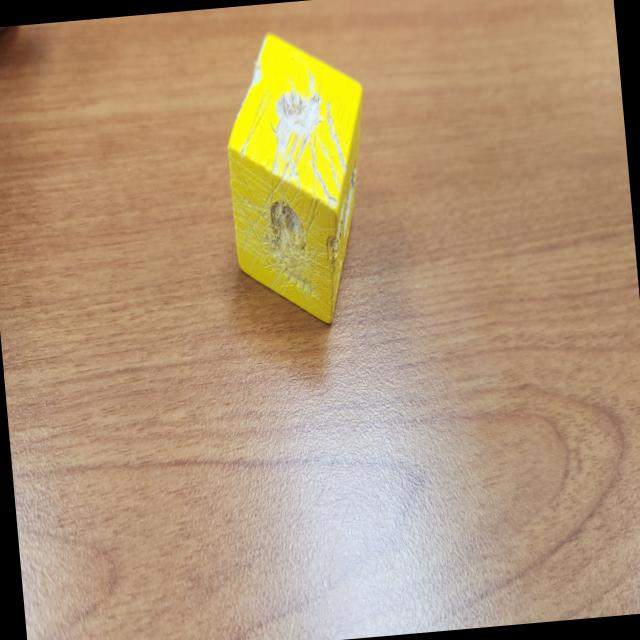broken: (218, 23, 383, 334)
